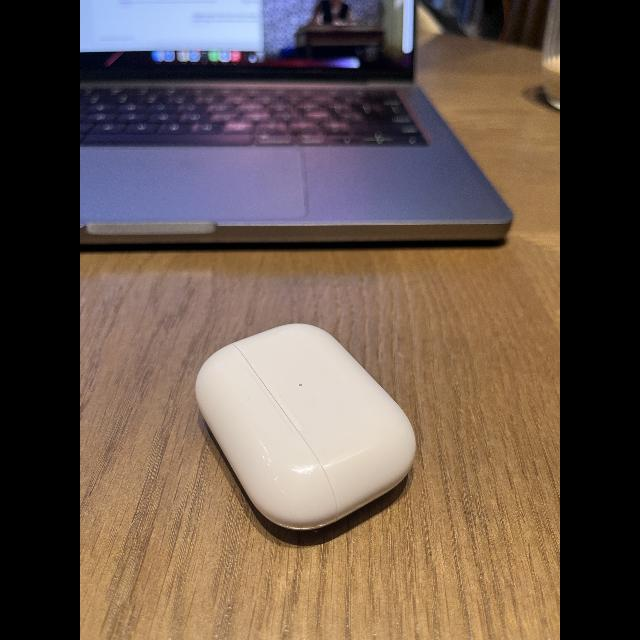AirPods Pro: (194, 318, 420, 542)
